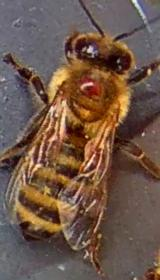varroa_mite: (74, 65, 109, 107)
